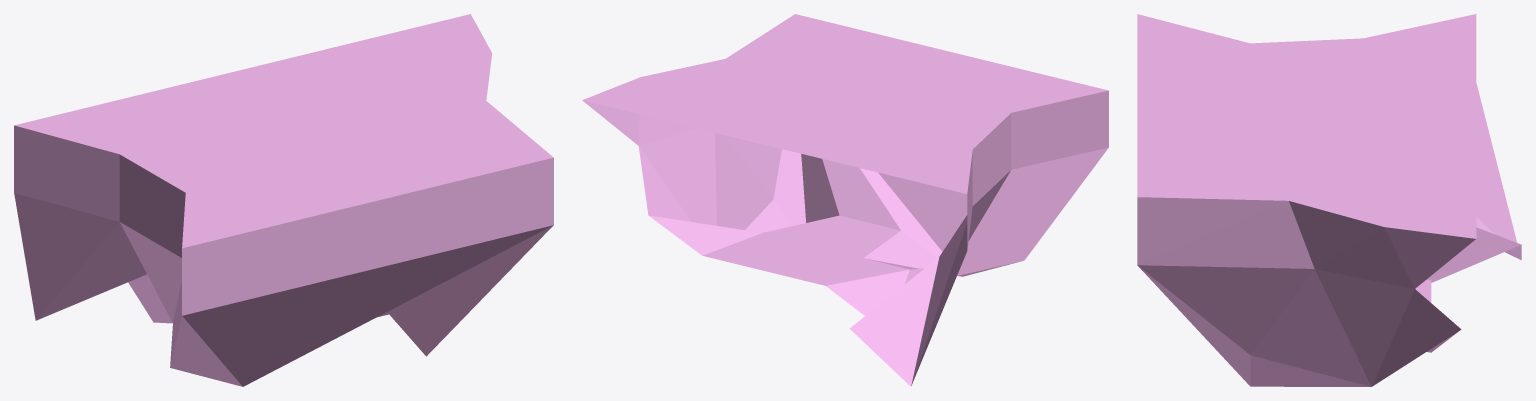
3 renders of one model, left to right at view 1: azimuth 30°, elevation 25°; view 2: azimuth 150°, elevation 25°; view 3: azimuth 270°, elevation 25°, orthographic. The views are drawn at different scales.
Parts seen in each view (by area): view 1: Object44; view 2: Object44; view 3: Object44.
Boxes of the visible parts, x1=… form: Object44: x1=14, y1=14, x2=553, y2=386; Object44: x1=582, y1=14, x2=1108, y2=386; Object44: x1=1137, y1=14, x2=1521, y2=386.
Bounding box in the file's own units: 473 × 220 × 342.
